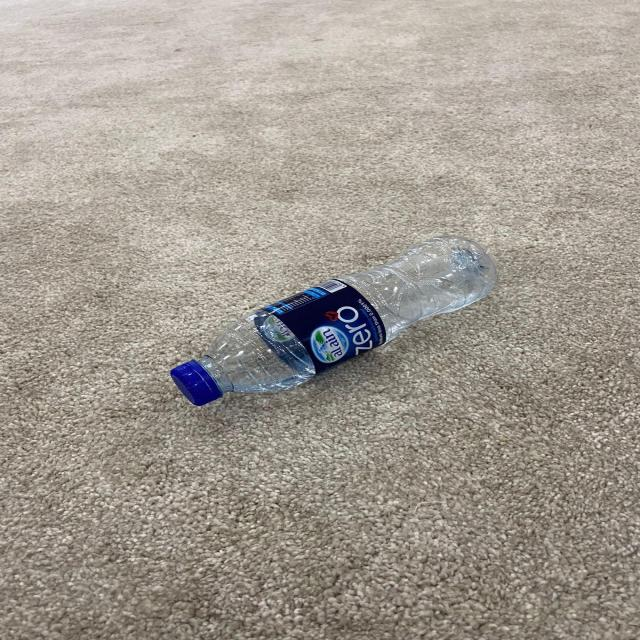bottle: (172, 234, 497, 414)
